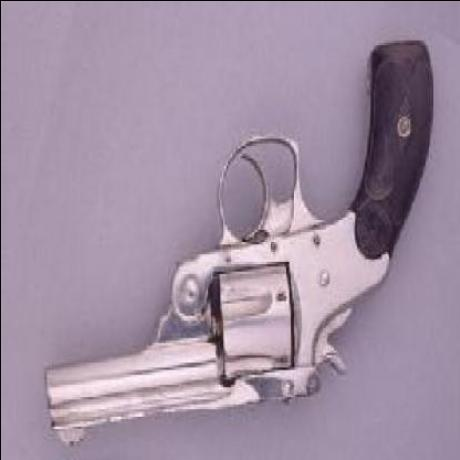weapon: (35, 29, 447, 460)
